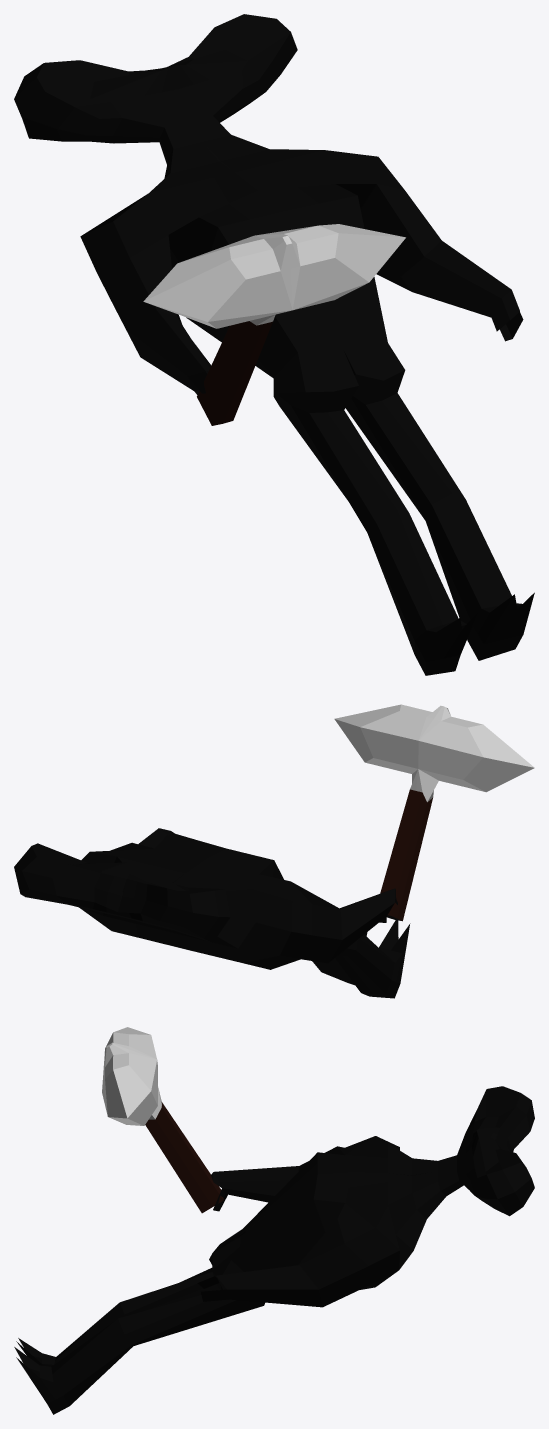
File: Giant2d.obj
3 renders of one model, top to bottom at view 1: azimuth 30°, elevation 25°; view 2: azimuth 150°, elevation 25°; view 3: azimuth 270°, elevation 25°, orthographic. The views are drawn at different scales.
Visible parts, largest first — view 1: Cube; view 2: Cube; view 3: Cube.
Part boxes in pixels (<box>): Cube: <box>14,14,534,675</box>; Cube: <box>14,704,534,998</box>; Cube: <box>14,1027,534,1414</box>.
Bounding box in the file's own units: 1.1 × 1.05 × 1.58.
